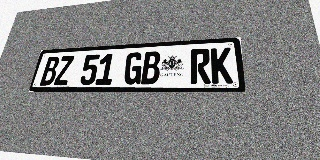1: (95, 53, 116, 85)
5: (79, 54, 100, 85)
B: (141, 51, 161, 84), (39, 56, 60, 86)
G: (123, 52, 143, 85)
K: (211, 47, 233, 84)
R: (190, 48, 211, 84)
Z: (53, 56, 74, 85)
